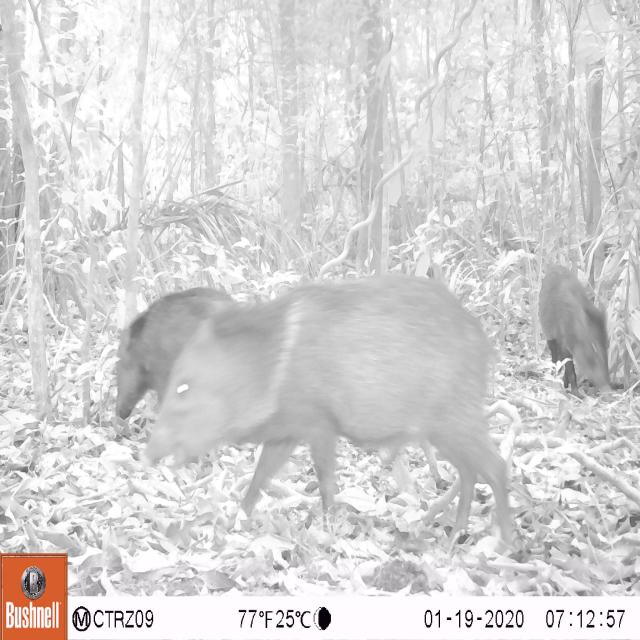White-lipped Peccary: (179, 268, 528, 564), (95, 283, 234, 421), (528, 252, 633, 413)
